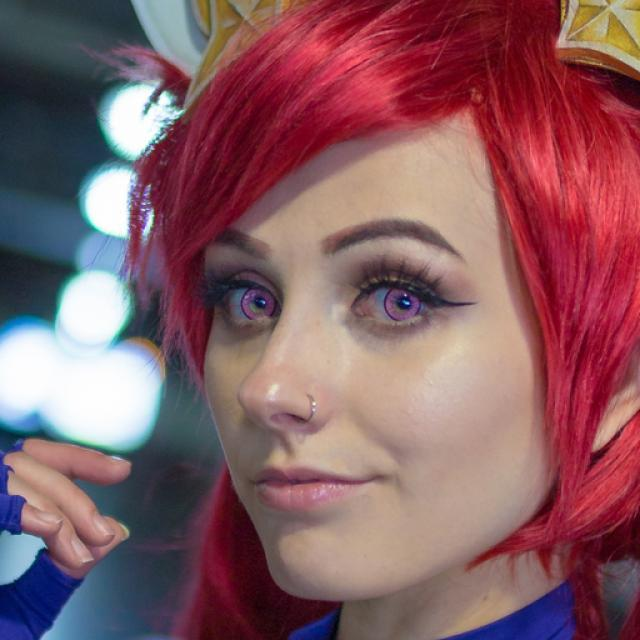content: (198, 96, 552, 594)
